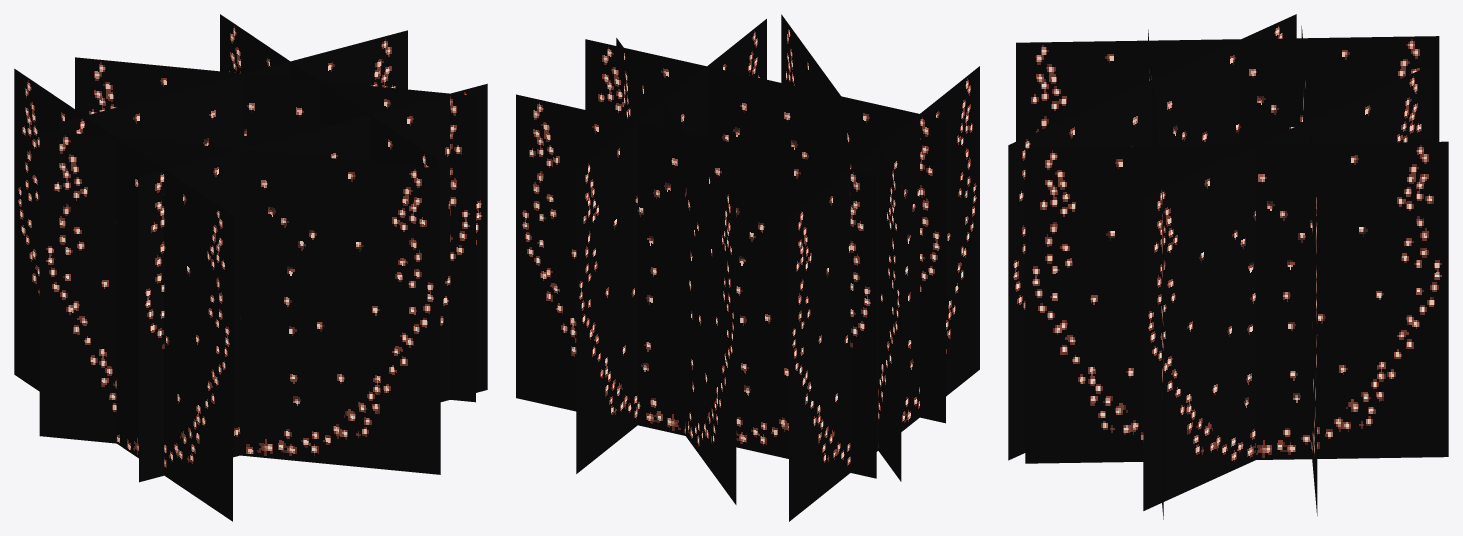
File: stage-metr-p5-4.glb
The picture shows the model from 3 angles, left to right: view 1: azimuth 30°, elevation 25°; view 2: azimuth 150°, elevation 25°; view 3: azimuth 270°, elevation 25°; orthographic projection. The views are drawn at different scales.
Size of the model in its own units: 9.09 by 6.94 by 8.78.
Materials: 1 (1 with a texture image).
